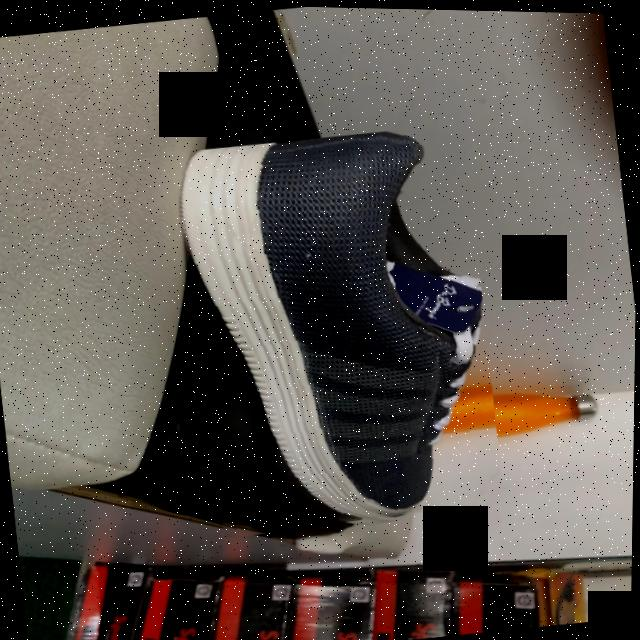shoe: (181, 131, 484, 520)
